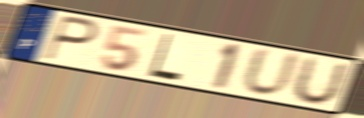1: (209, 41, 242, 91)
5: (100, 23, 149, 73)
L: (147, 32, 184, 83)
P: (40, 13, 101, 64)
U: (239, 45, 303, 100), (288, 55, 351, 107)
